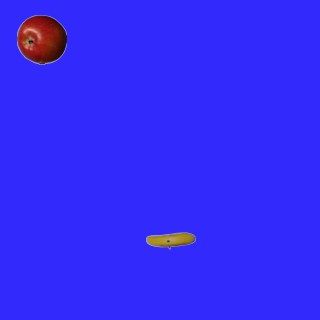Apple Braeburn: (16, 14, 66, 64)
Banana: (145, 215, 195, 265)
